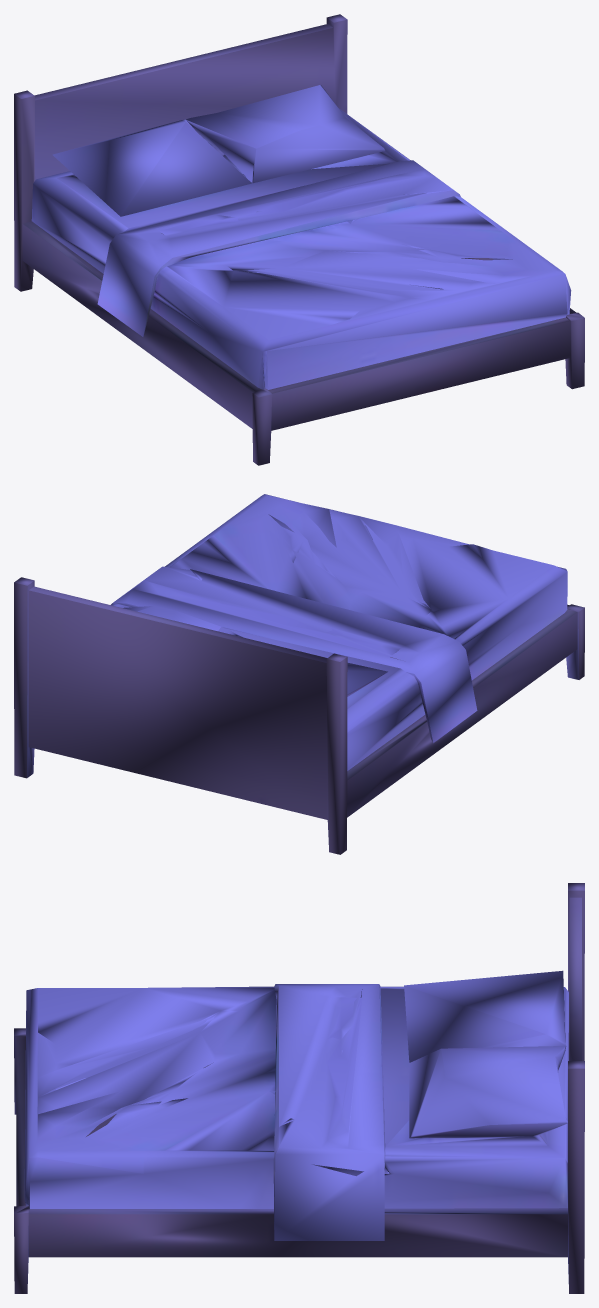
Rendered from model.progressive.glb.
The picture shows the model from 3 angles, top to bottom: view 1: azimuth 30°, elevation 25°; view 2: azimuth 150°, elevation 25°; view 3: azimuth 270°, elevation 25°; orthographic projection. The views are drawn at different scales.
Parts seen in each view (by area): view 1: texture_pbr_20250901; view 2: texture_pbr_20250901; view 3: texture_pbr_20250901.
Part boxes in pixels (left/top/right/bottom): texture_pbr_20250901: left=14, top=14, right=584, bottom=465; texture_pbr_20250901: left=14, top=494, right=584, bottom=854; texture_pbr_20250901: left=14, top=883, right=584, bottom=1293.
Bounding box in the file's own units: 1.52 × 0.8261 × 1.9.
1 material, 1 textured.
